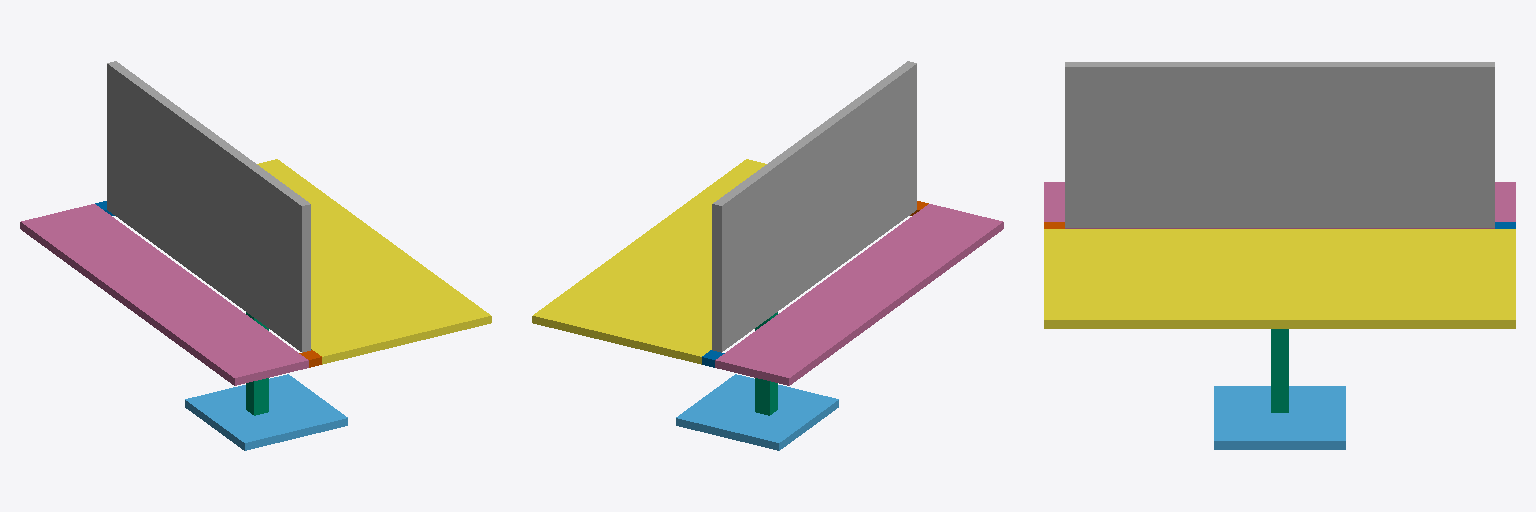
The robot description file, URDF, robot "cafe_table":
<?xml version="1.0" ?>
<robot name="cafe_table">
  
  <link name="world"/>
  <link name="base_link">    
    <visual>
      <origin xyz="0.05 0 0.02" rpy="0 0 0" />
      <geometry>
        <box size="0.56 0.56 0.04" />
      </geometry>
    </visual>
    
    <inertial>
      <origin xyz="0.05 0 0.02" rpy="0 0 0" />
      <mass value="100"/>
      <inertia
        ixx="2.627" ixy="0.0" ixz="0.0"
        iyy="5.227" iyz="0.0"
        izz="2.627"/>
      <!-- <gravity>0</gravity> -->
    </inertial>
    
    <collision>
      <origin xyz="0.05 0 0.02" rpy="0 0 0" />
      <geometry>
        <box size="0.56 0.56 0.04" />
      </geometry>
    </collision>  
    
    <!-- <gazebo reference="base_link">
      <material>Gazebo/Blue</material>
      <gravity>0</gravity>
      <mu1>1000</mu1>
      <mu2>1000</mu2>
    </gazebo>  -->
  </link>
  
  <joint name="fixed" type="fixed">
    <parent link="world"/>
    <child link="base_link"/>
  </joint>
  
  <link name="column">    
    <visual>
      <origin xyz="0 0 0.37" rpy="0 0 0" />
      <geometry>
        <box size="0.08 0.08 0.74" />
      </geometry>
    </visual>
    
    <inertial>
      <origin xyz="0 0 0.37" rpy="0 0 0" />
      <mass value="10"/>
      <inertia
        ixx="0.5" ixy="0.0" ixz="0.0"
        iyy="0.01" iyz="0.0"
        izz="0.5"/>
      <!-- <gravity>0</gravity> -->
    </inertial>
    
    <collision>
      <origin xyz="0 0 0.37" rpy="0 0 0" />
      <geometry>
        <box size="0.08 0.08 0.74" />
      </geometry>
    </collision> 
    
    <!-- <gazebo reference="column">
      <material>Gazebo/Blue</material>
      <gravity>0</gravity>
      <mu1>1000</mu1>
      <mu2>1000</mu2>
    </gazebo> -->
    
  </link> 
  
  <joint name="base_to_column" type="fixed">
    <parent link="base_link"/>
    <child link="column"/>
  </joint>
  
  <link name="surface1">
    <visual>
      <origin xyz="0.23 0 0.755" rpy="0 0 0" />
      <geometry>
        <box size="0.913 2 0.04" />
      </geometry>
    </visual>
    
    <inertial>
      <origin xyz="0.23 0 0.755" rpy="0 0 0" />
      <mass value="1"/>
      <inertia
        ixx="0.07" ixy="0.0" ixz="0.0"
        iyy="0.40" iyz="0.0"
        izz="0.33"/>
      <!-- <gravity>0</gravity> -->
    </inertial>
    
    <collision>
      <origin xyz="0.23 0 0.755" rpy="0 0 0" />
      <geometry>
        <box size="0.913 2 0.04" />
      </geometry>
    </collision>
    
    <!-- <gazebo reference="surface1">
      <material>Gazebo/Blue</material>
      <gravity>0</gravity>
      <mu1>1000</mu1>
      <mu2>1000</mu2>
    </gazebo> -->
    
  </link>
  
  <joint name="column_to_surface1" type="fixed">
    <parent link="column"/>
    <child link="surface1"/>
  </joint>
  
  <link name="surface3">
    <visual>
      <origin xyz="-0.2633 0.9565 0.755" rpy="0 0 0" /> <!---0.2765-->
      <geometry>
        <box size="0.0735 0.087 0.04" />
      </geometry>
    </visual>
    
    <inertial>
      <origin xyz="-0.2633 0.9565 0.755" rpy="0 0 0" />
      <mass value="1"/>
      <inertia
        ixx="0.001" ixy="0.0" ixz="0.0"
        iyy="0.001" iyz="0.0"
        izz="0.001"/>
      <!-- <gravity>0</gravity> -->
    </inertial>
    
    <collision>
      <origin xyz="-0.2633 0.9565 0.755" rpy="0 0 0" />
      <geometry>
        <box size="0.0735 0.087 0.04" />
      </geometry>
    </collision> 
    
    <!-- <gazebo reference="surface3">
      <material>Gazebo/Blue</material>
      <gravity>0</gravity> 
      <mu1>1000</mu1>
      <mu2>1000</mu2>
    </gazebo> -->
  </link>
  
  <link name="surface4">    
    <visual>
      <origin xyz="-0.2633 -0.9565 0.755" rpy="0 0 0" />
      <geometry>
        <box size="0.0735 0.087 0.04" />
      </geometry>
    </visual> 
    
    <inertial>
      <origin xyz="-0.2633 -0.9565 0.755" rpy="0 0 0" />
      <mass value="1"/>
      <inertia
        ixx="0.001" ixy="0.0" ixz="0.0"
        iyy="0.001" iyz="0.0"
        izz="0.001"/>
      <!-- <gravity>0</gravity> -->
    </inertial>
    
    <collision>
      <origin xyz="-0.2633 -0.9565 0.755" rpy="0 0 0" />
      <geometry>
        <box size="0.0735 0.087 0.04" />
      </geometry>
    </collision> 
    
    <!-- <gazebo reference="surface4">
      <material>Gazebo/Blue</material>
      <gravity>0</gravity>
      <mu1>1000</mu1>
      <mu2>1000</mu2>
    </gazebo> -->
  </link>
  
  <joint name="surface1_to_surface3" type="fixed">
    <parent link="surface1"/>
    <child link="surface3"/>
  </joint>
  
  <joint name="surface1_to_surface4" type="fixed">
    <parent link="surface1"/>
    <child link="surface4"/>
  </joint>
  
  <link name="surface2">
    <visual>
      <origin xyz="-0.5 0 0.755" rpy="0 0 0" />
      <geometry>
        <box size="0.4 2 0.04" />
      </geometry>
    </visual>
    
    <inertial>
      <origin xyz="-0.5 0 0.755" rpy="0 0 0" />
      <mass value="5"/>
      <inertia
        ixx="0.065" ixy="0.0" ixz="0.0"
        iyy="1.735" iyz="0.0"
        izz="1.665"/>
      <!-- <contact_coefficients mu="10"/> -->
      <!-- <gravity>0</gravity> -->
    </inertial>
    
    <collision>
      <origin xyz="-0.5 0 0.755" rpy="0 0 0" />
      <geometry>
        <box size="0.4 2 0.04" />
      </geometry>
    </collision> 
    
    <!-- <gazebo reference="surface2">
      <material>Gazebo/Blue</material>
      <gravity>0</gravity>
      <mu1>1000</mu1>
      <mu2>1000</mu2>
    </gazebo> -->
    
  </link>
  
  <joint name="surface3_to_surface2" type="fixed">
    <parent link="surface3"/>
    <child link="surface2"/>
  </joint>
  
  
  
  
  
  <link name="grey_wall_link">
    <visual>
      <origin xyz="-0.26 0 1.1525" rpy="0 0 1.57" /> 
      <geometry>
        <box size="1.826 0.05 0.755" />
      </geometry>
    </visual>
    
    <inertial>
      <origin xyz="-0.26 0 1.1525" rpy="0 0 1.57" />
      <mass value="1"/>
      <inertia
        ixx="0.048" ixy="0.0" ixz="0.0"
        iyy="0.278" iyz="0.0"
        izz="0.325"/>
      <!-- <gravity>0</gravity> -->
    </inertial>
    
    <collision>
      <origin xyz="-0.26 0 1.1525" rpy="0 0 1.57" />
      <geometry>
        <box size="1.826 0.05 0.755" />
      </geometry>
    </collision> 
    
    <!-- <gazebo reference="grey_wall_link">
      <material>Gazebo/Orange</material>
      <gravity>0</gravity>
      <mu1>1000</mu1>
      <mu2>1000</mu2>
    </gazebo> -->
  </link>
    
  <joint name="joint_wall" type="prismatic">
    <parent link="surface2"/>
    <child link="grey_wall_link"/>
    <axis xyz="0 0 1"/>
    <!-- <limit effort="1000.0" lower="-0.223" upper="0" velocity="0.5" /> -->
    <limit effort="1000.0" lower="-0.755" upper="0" velocity="0.5" />
  </joint>
    

  
  <gazebo>
    <gravity>0</gravity>
  </gazebo>

  <gazebo reference="base_link">
    <material>Gazebo/Wood</material>
    <!-- <static>true</static> -->
    <gravity>0</gravity>
    <mu1>1000</mu1>
    <mu2>1000</mu2>
  </gazebo> 
  
  <gazebo reference="column">
    <material>Gazebo/Wood</material>
    <!-- <static>true</static> -->
    <!-- <gravity>0</gravity> -->
    <mu1>1000</mu1>
    <mu2>1000</mu2>
  </gazebo>
  
  <gazebo reference="surface1">
    <material>Gazebo/Wood</material>
    <!-- <static>true</static> -->
    <!-- <gravity>0</gravity> -->
    <mu1>1000</mu1>
    <mu2>1000</mu2>
  </gazebo> 
  
  <gazebo reference="surface3">
    <material>Gazebo/Wood</material>
    <!-- <static>true</static> -->
    <!-- <gravity>0</gravity> -->
    <mu1>1000</mu1>
    <mu2>1000</mu2>
  </gazebo>
  
  <gazebo reference="surface4">
    <material>Gazebo/Wood</material>
    <!-- <static>true</static> -->
    <!-- <gravity>0</gravity> -->
    <mu1>1000</mu1>
    <mu2>1000</mu2>
  </gazebo>
  
  <gazebo reference="surface2">
    <material>Gazebo/Wood</material>
    <!-- <static>true</static> -->
    <!-- <gravity>0</gravity> -->
    <mu1>1000</mu1>
    <mu2>1000</mu2>
  </gazebo>
  
  <gazebo reference="grey_wall_link">
    <material>Gazebo/Wood</material>
    <gravity>0</gravity>
    <mu1>1000</mu1>
    <mu2>1000</mu2>
  </gazebo>
  
  
  
</robot>

--- What the picture shows (computed from the rendered views, not written in the file) ---
Views: 3 orthographic renders of the robot side by side, from view 1: azimuth 30°, elevation 25°; view 2: azimuth 150°, elevation 25°; view 3: azimuth 270°, elevation 25°.
Model cafe_table with 8 links and 7 joints (1 prismatic, 6 fixed), rooted at world, posed all joints at 0.
Links seen in each view (by area): view 1: grey_wall_link, surface1, surface2, base_link, column; view 2: grey_wall_link, surface1, surface2, base_link, column; view 3: grey_wall_link, surface1, base_link, surface2, column.
Boxes of the visible links, <box> form: grey_wall_link: <box>107,61,310,352</box>; surface1: <box>257,159,491,364</box>; surface2: <box>20,204,308,385</box>; base_link: <box>185,374,347,450</box>; column: <box>246,312,268,415</box>; grey_wall_link: <box>712,61,916,352</box>; surface1: <box>532,159,766,364</box>; surface2: <box>715,204,1003,385</box>; base_link: <box>676,374,838,450</box>; column: <box>755,312,777,415</box>; grey_wall_link: <box>1065,62,1494,227</box>; surface1: <box>1044,229,1515,328</box>; base_link: <box>1214,386,1345,449</box>; surface2: <box>1044,182,1515,228</box>; column: <box>1271,329,1288,412</box>.
Bounding box of the posed robot: 1.39 × 2 × 1.53 m (x, y, z).
Geometry: primitives only (box / cylinder / sphere), no mesh files.